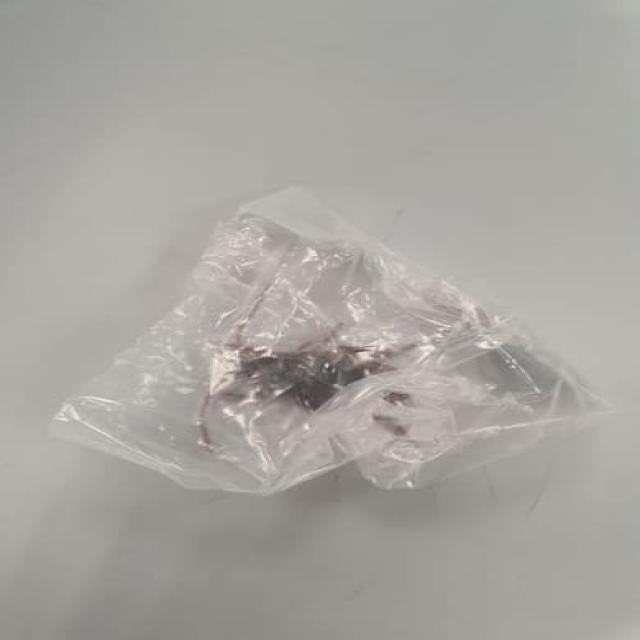Cockroach: (199, 315, 430, 458)
